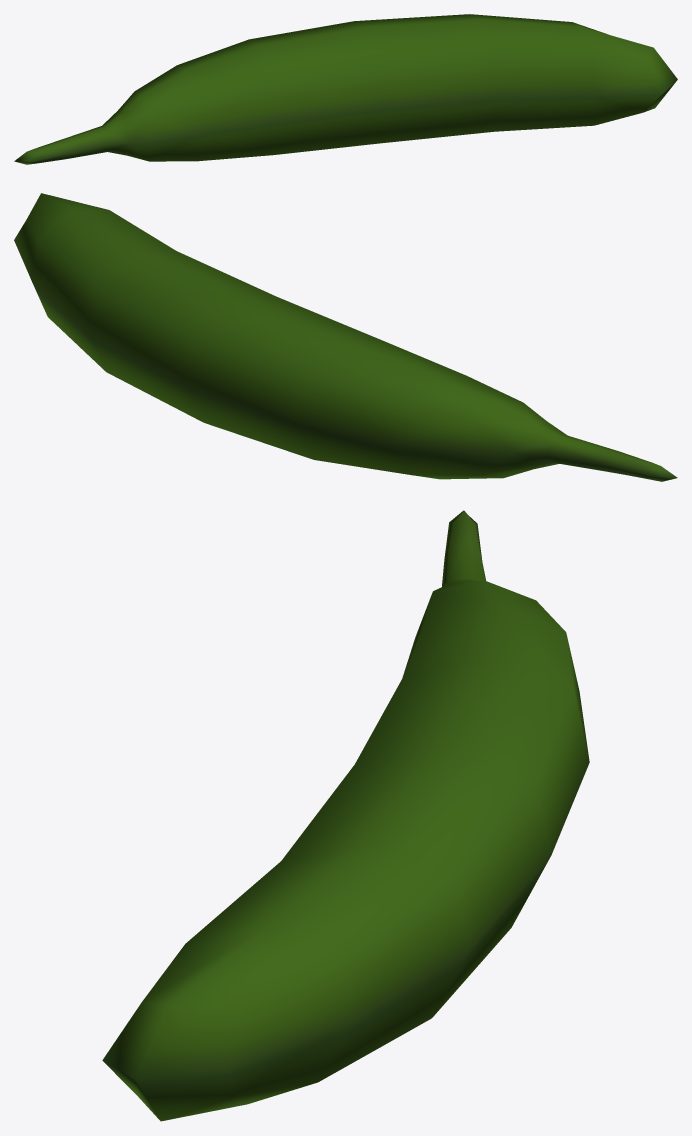
File: GreenBean (12).fbx
3 views of the same model, one above another, from view 1: azimuth 30°, elevation 25°; view 2: azimuth 150°, elevation 25°; view 3: azimuth 270°, elevation 25° (orthographic). The views are drawn at different scales.
Visible parts, largest first — view 1: Apple (4); view 2: Apple (4); view 3: Apple (4).
Part boxes in pixels (x1=…): Apple (4): x1=14, y1=14, x2=677, y2=164; Apple (4): x1=14, y1=193, x2=677, y2=481; Apple (4): x1=102, y1=510, x2=589, y2=1121.
Size of the model in its own units: 1.03 by 0.1772 by 0.3741.
Materials: 1 (1 with a texture image).
